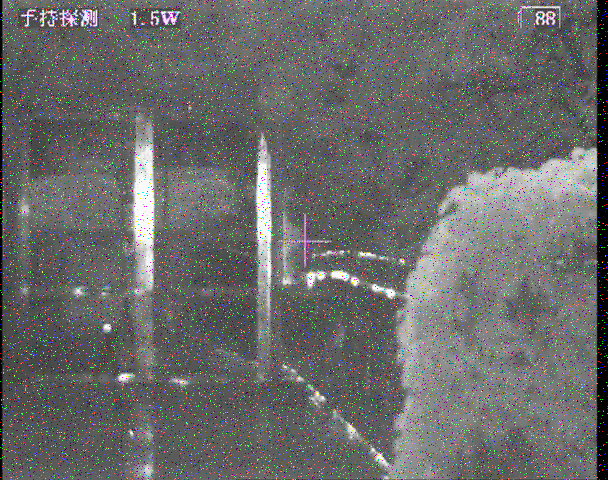my: (102, 323, 112, 334)
